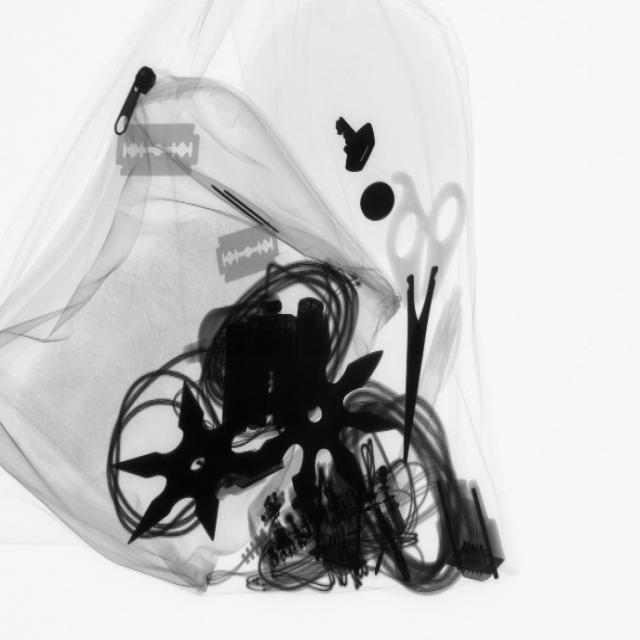BLADE: (106, 110, 208, 190), (211, 216, 289, 287)
SHURIKEN: (247, 329, 398, 521), (123, 377, 274, 544)
